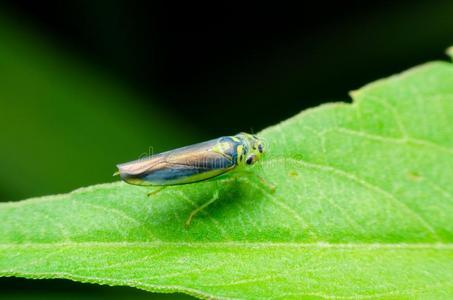Cicadellidae: (112, 133, 266, 191)
